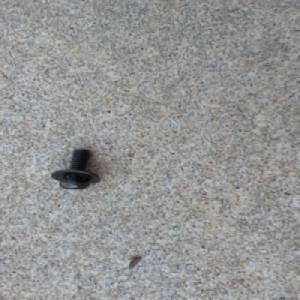BoltWasher: (47, 147, 101, 191)
